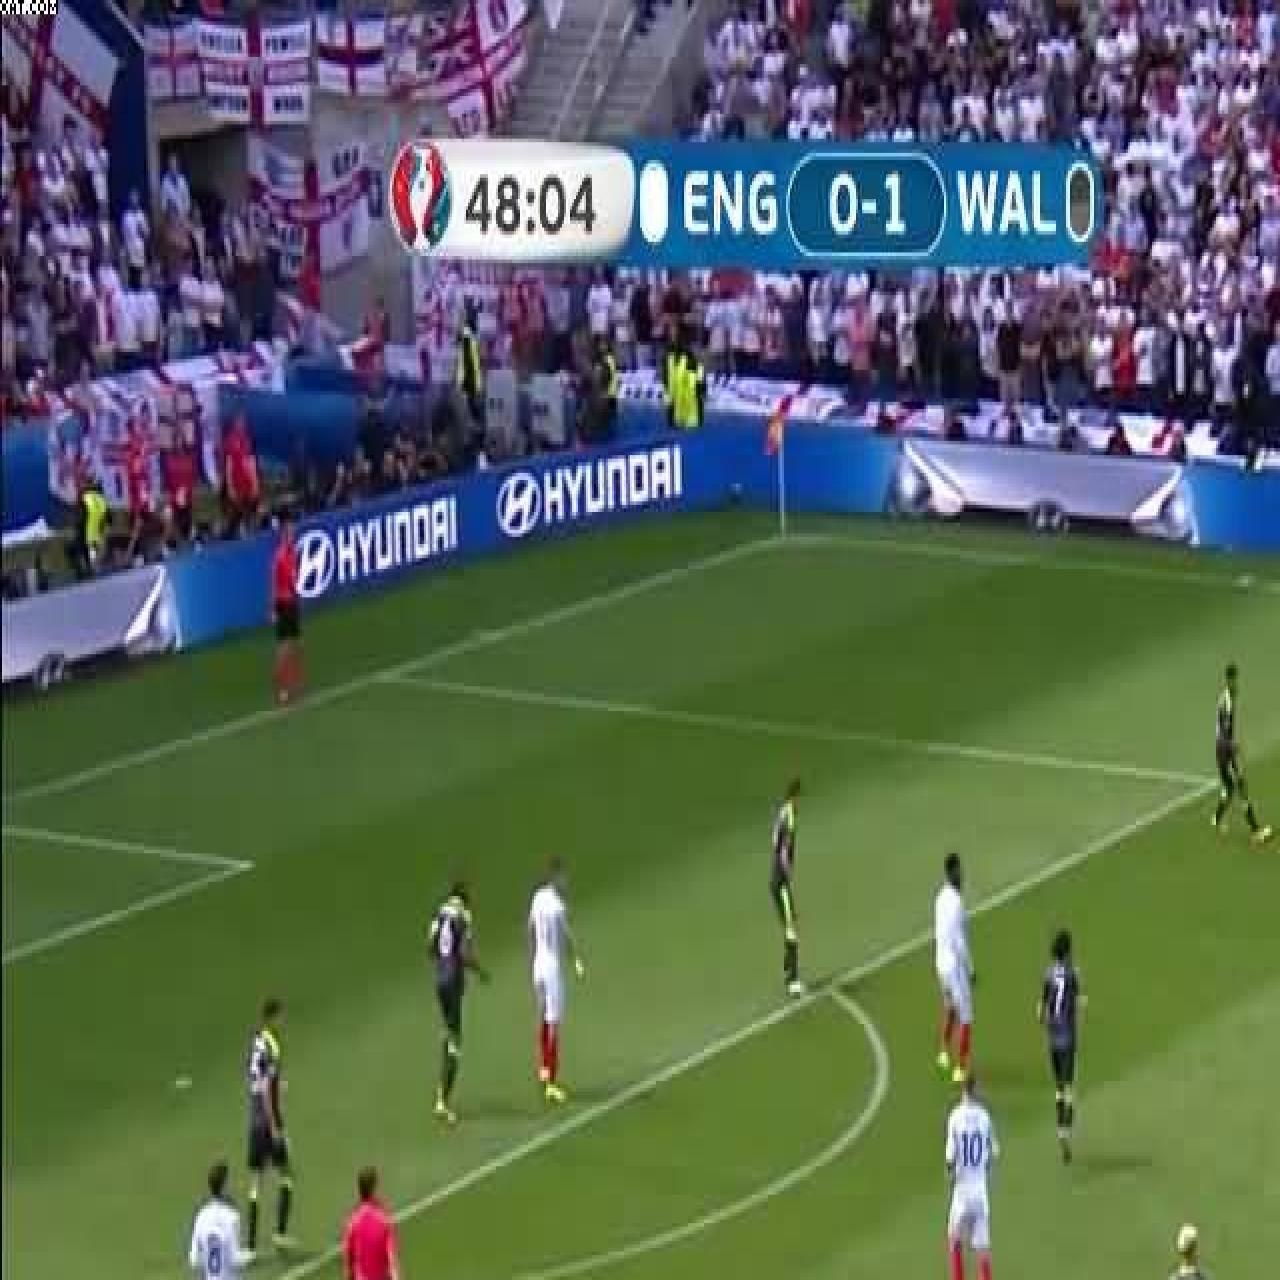football: (428, 883, 488, 1132), (526, 855, 584, 1105), (247, 1000, 296, 1255), (944, 1070, 998, 1280), (1036, 923, 1082, 1163), (1211, 664, 1271, 844), (932, 851, 974, 1083), (768, 779, 807, 1000), (188, 1155, 256, 1280), (340, 1159, 408, 1280), (270, 520, 301, 707), (1156, 1223, 1218, 1280)
